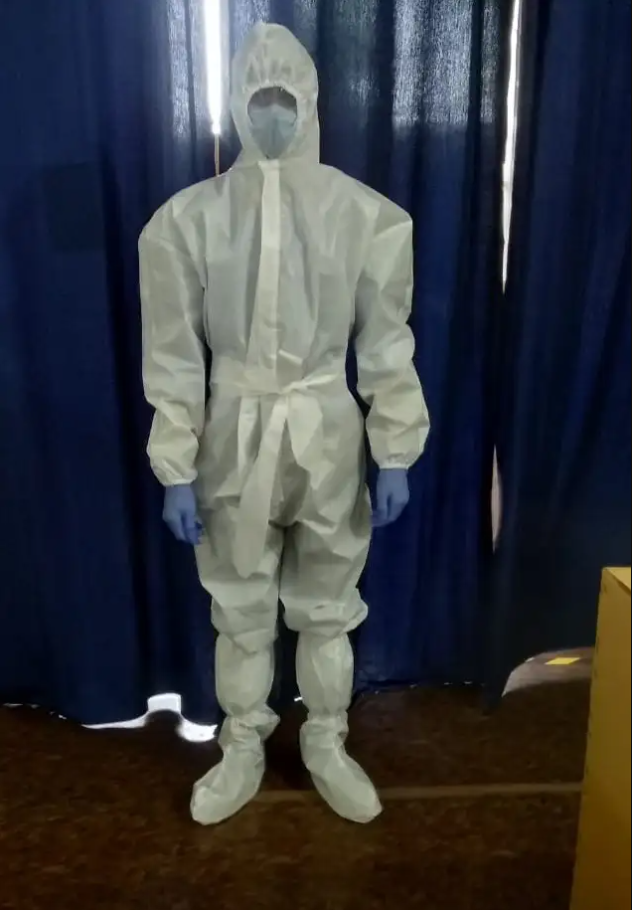Coverall: (133, 23, 421, 738)
Gloves: (160, 464, 203, 545), (376, 455, 413, 530)
